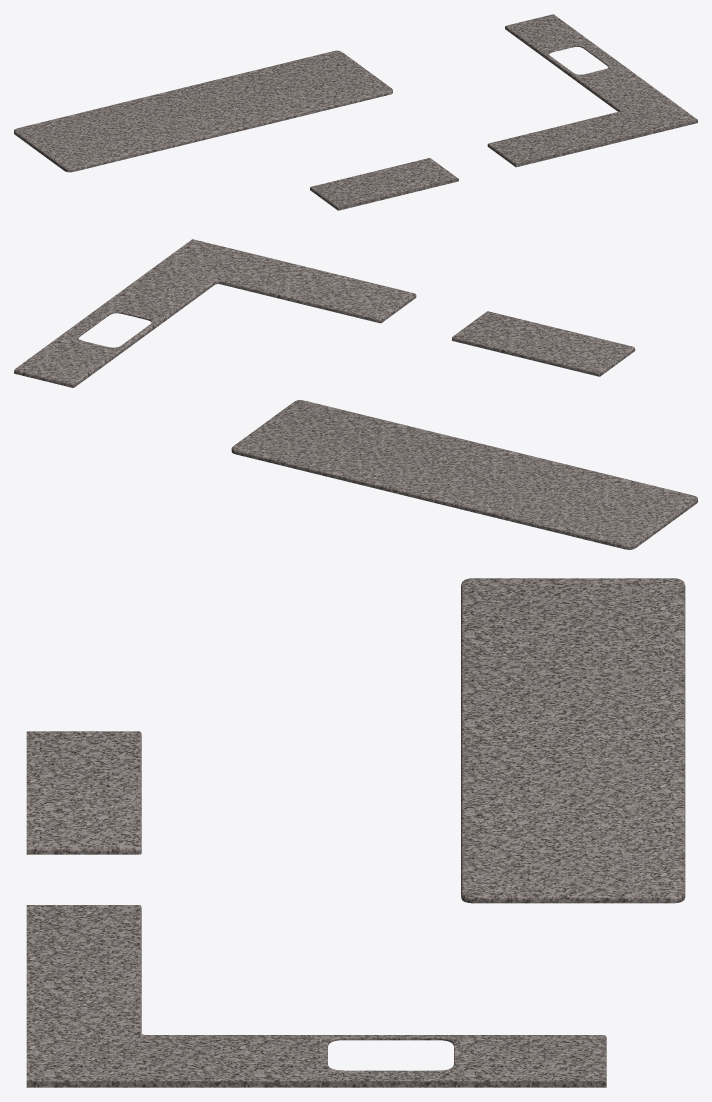
The model's file is 1860_kitchen_Countertops_GraniteCaledonia.gltf.
3 views of the same model, one above another, from view 1: azimuth 30°, elevation 25°; view 2: azimuth 150°, elevation 25°; view 3: azimuth 270°, elevation 25° (orthographic). The views are drawn at different scales.
Visible parts, largest first — view 1: Line18738; view 2: Line18738; view 3: Line18738.
Part boxes in pixels (x1,y1,x2,y2): Line18738: (14, 14, 697, 210); Line18738: (14, 239, 697, 549); Line18738: (26, 578, 685, 1087).
Bounding box in the file's own units: 8.6 × 0.09 × 4.7.
Materials: 1 (1 with a texture image).
